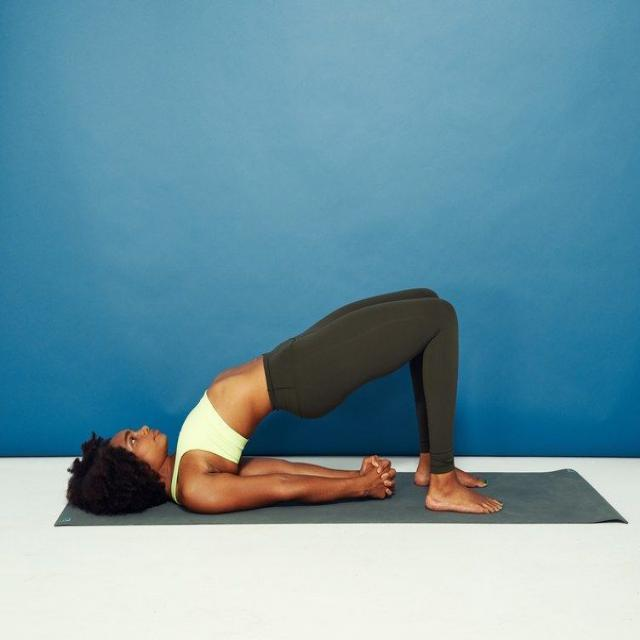yoga-pose bridge: (80, 293, 504, 523)
